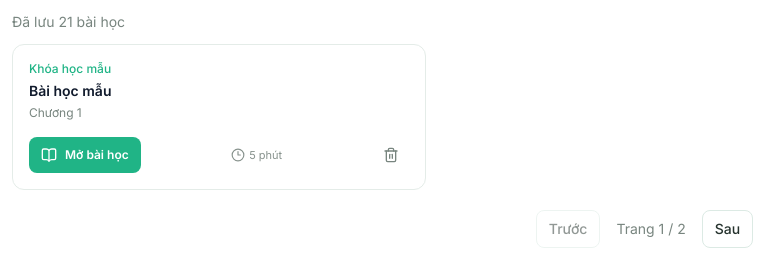
Scenario: SavedLessonsView › loads later saved lessons through server pagination
Check: the link "Mở bài học" is shown, box [29, 137, 141, 173]
Check: the text "Đã lưu 21 bài học" is shown, box [12, 13, 125, 30]
Click the button "Sau" at (727, 229), box [702, 210, 753, 248]
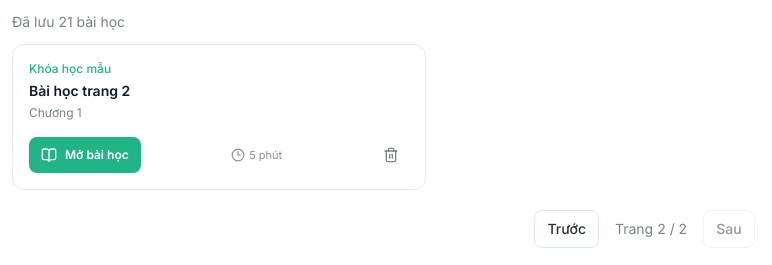
Check: the text "Trang 2 / 2" is shown, box [615, 219, 687, 239]
Check: the heading "Bài học trang 2" is shown, box [29, 82, 130, 99]
